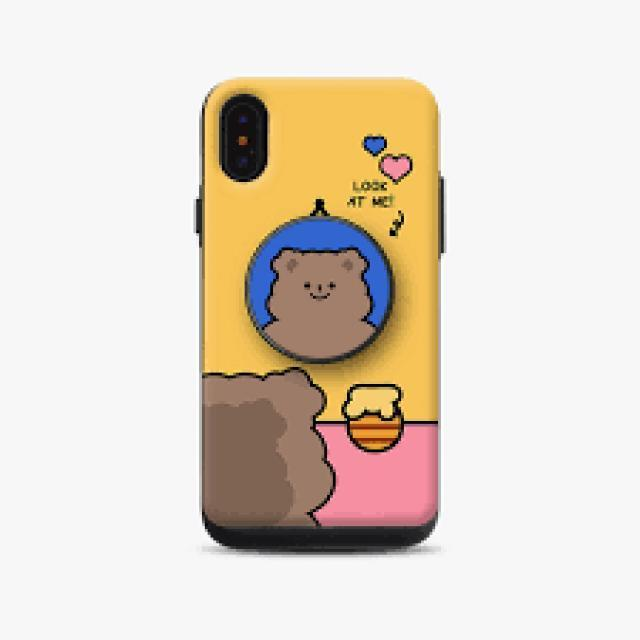Phone: (193, 73, 449, 560)
